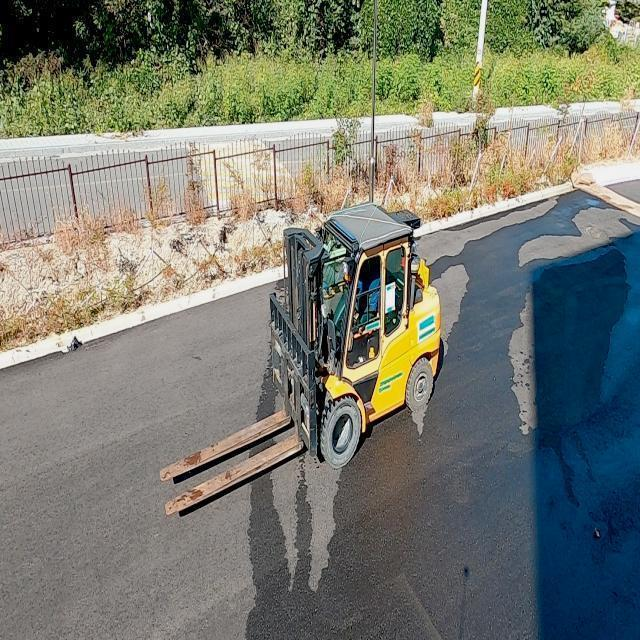forklift: (273, 204, 441, 466)
